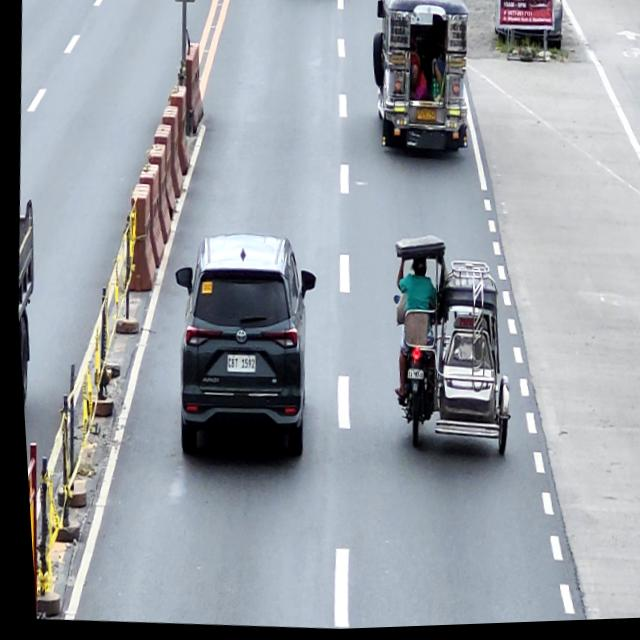Car: (156, 227, 323, 466)
Jeep: (361, 0, 476, 164)
License-Plate: (221, 355, 251, 375), (414, 109, 435, 125), (402, 369, 419, 383)
Tricycle: (376, 233, 520, 464)
